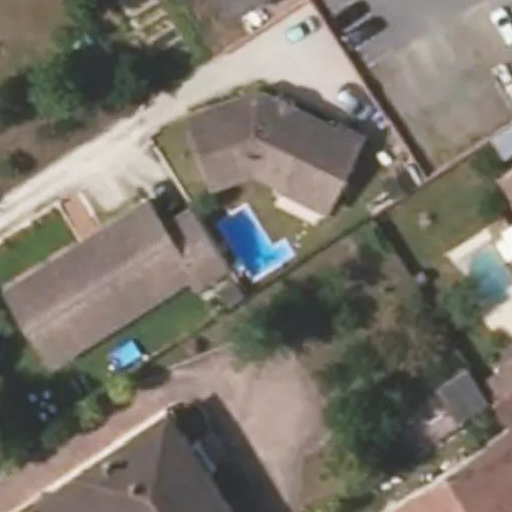pool: (212, 221, 297, 254)
